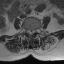CCS_normal: (29, 27, 31, 37)
LFS_normal: (33, 27, 36, 34)
LLS_normal: (31, 27, 33, 36)
RFS_normal: (25, 26, 27, 35)
RLS_normal: (27, 27, 29, 36)
